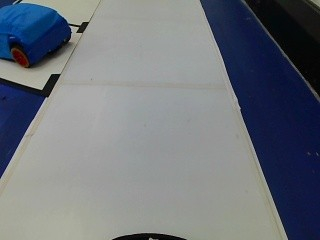car: (0, 5, 73, 69)
